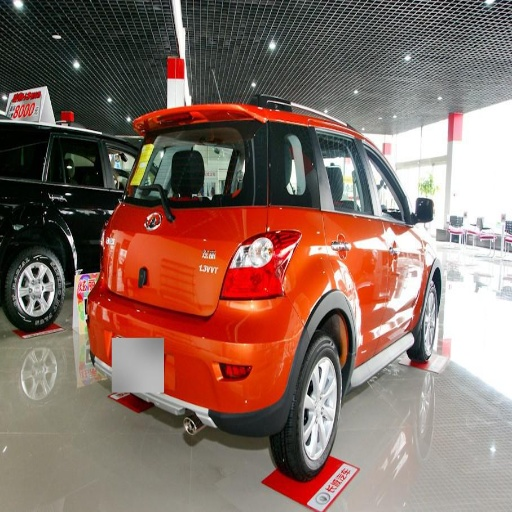back_bumper: (129, 295, 304, 433)
back_right_door: (311, 123, 387, 349)
trunk: (109, 193, 270, 333), (2, 186, 44, 241)
